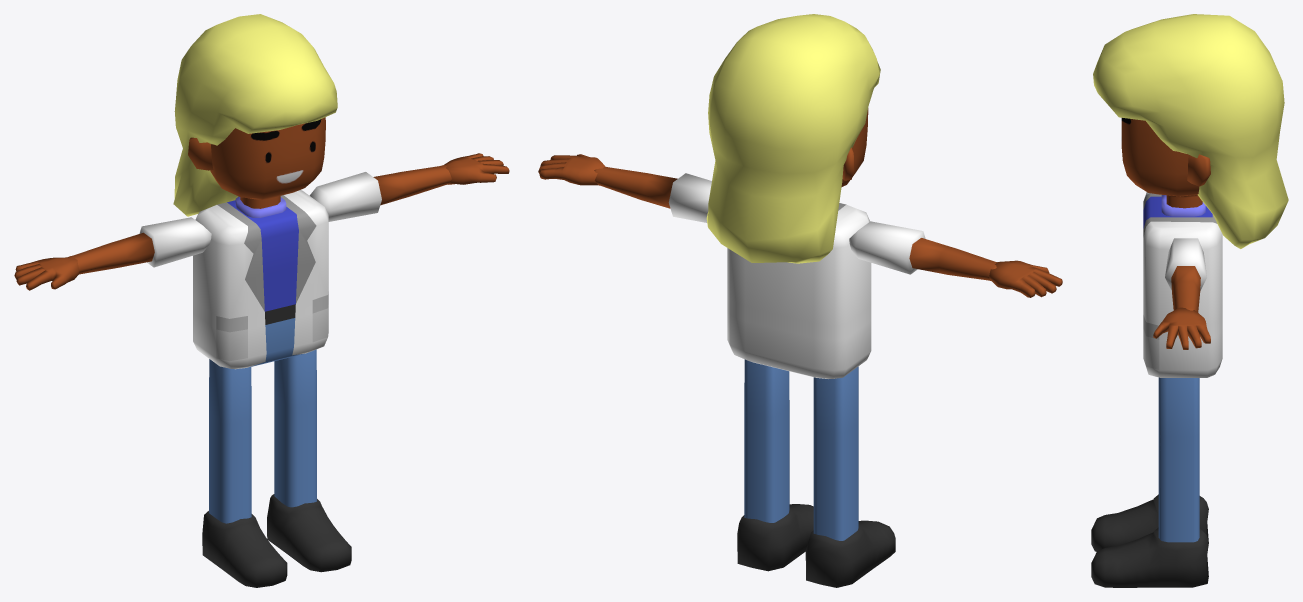
File: NPC_Yellow02_BlondeHair02.gltf
The picture shows the model from 3 angles, left to right: view 1: azimuth 30°, elevation 25°; view 2: azimuth 150°, elevation 25°; view 3: azimuth 270°, elevation 25°; orthographic projection. The views are drawn at different scales.
Parts seen in each view (by area): view 1: NPC_Corpo_Yellow2_BlondeHair.002; view 2: NPC_Corpo_Yellow2_BlondeHair.002; view 3: NPC_Corpo_Yellow2_BlondeHair.002.
Boxes of the visible parts, x1,y1,x2,y2 form: NPC_Corpo_Yellow2_BlondeHair.002: (14,14,509,587); NPC_Corpo_Yellow2_BlondeHair.002: (538,14,1062,587); NPC_Corpo_Yellow2_BlondeHair.002: (1091,14,1288,587).
Bounding box in the file's own units: 2.31 × 2.33 × 0.7777.
Materials: 1 (1 with a texture image).
